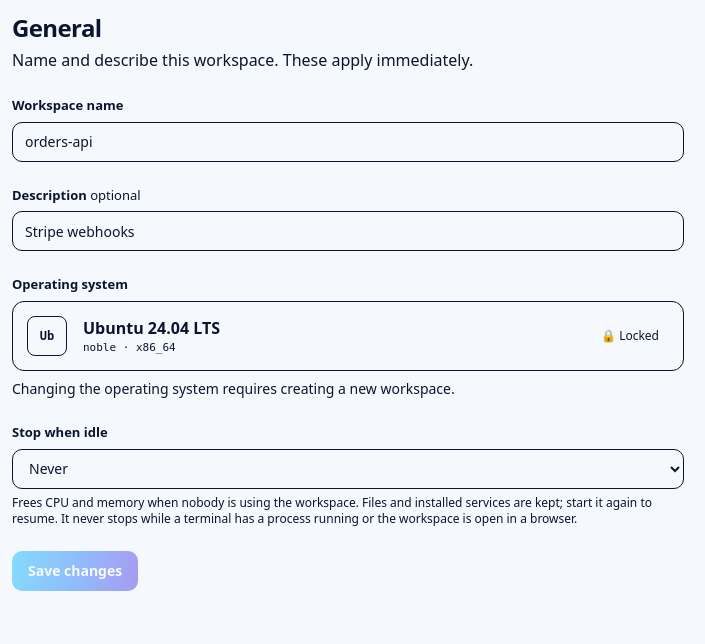
Test: GeneralTab › shows a name conflict next to the field
Type "2" into the field labelled "Workspace name" at (348, 142), box [12,122,684,162]
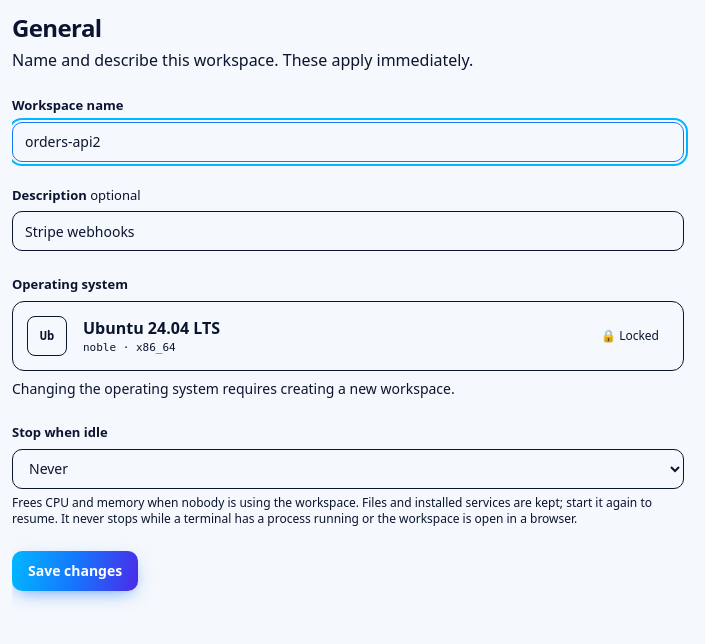
Click the button "Save changes" at (75, 570), box [12,550,138,590]
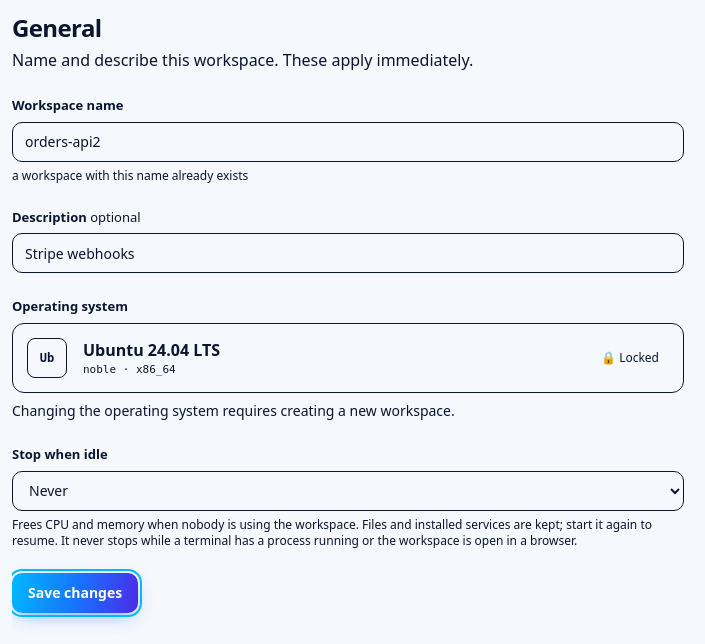
Result: the text "a workspace with this name already exists" is shown at [12,166,248,184]
